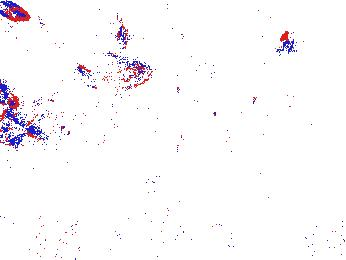X-ray fish: (74, 51, 152, 91)
red belly glassfish: (276, 29, 296, 61), (1, 80, 19, 109)
